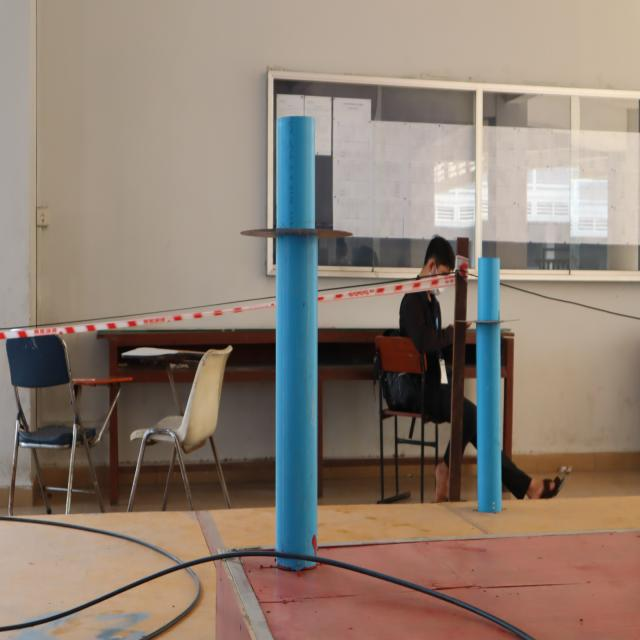pole: (242, 114, 349, 338), (462, 262, 519, 371)
